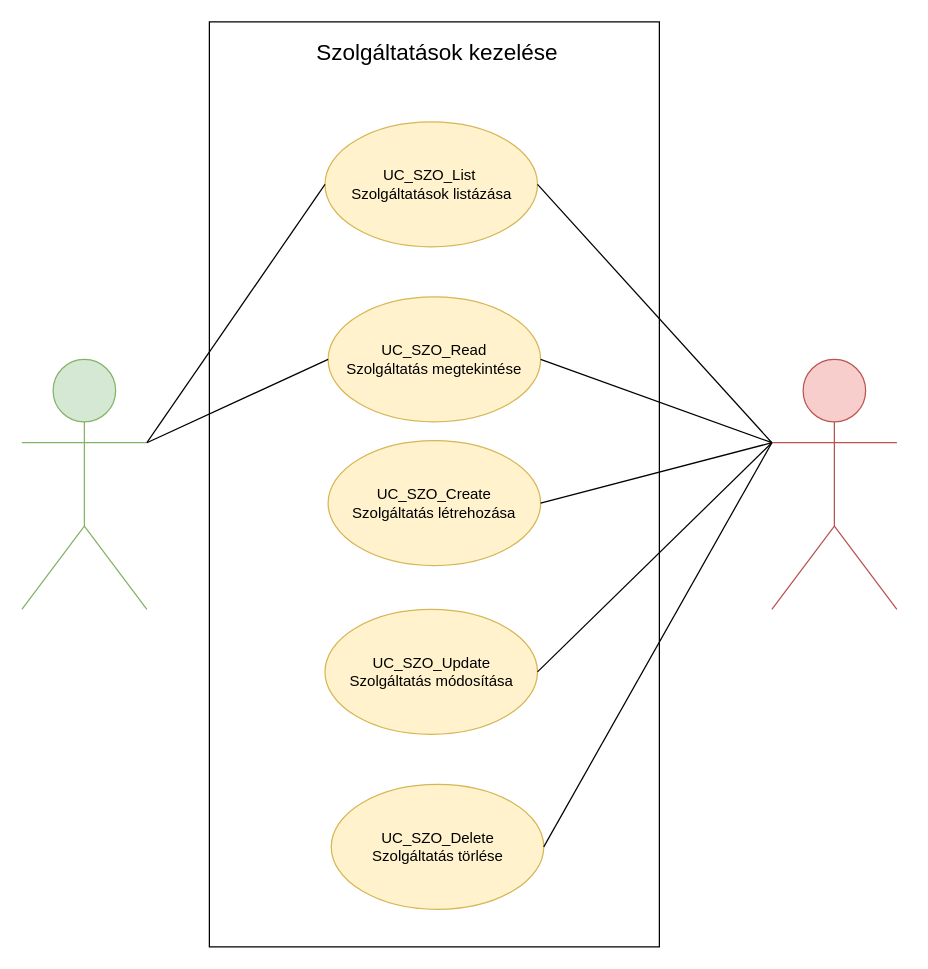
The diagram is 928 pixels wide and 969 high, and some of its shapes have lost their labels. The shapes that lost their labels are listed below. From the top down, each one's box as (x1, y1, x2, y2) in pixels, then its label:
(21, 358, 147, 609): Látogató
(771, 358, 897, 609): Adminisztrátor
